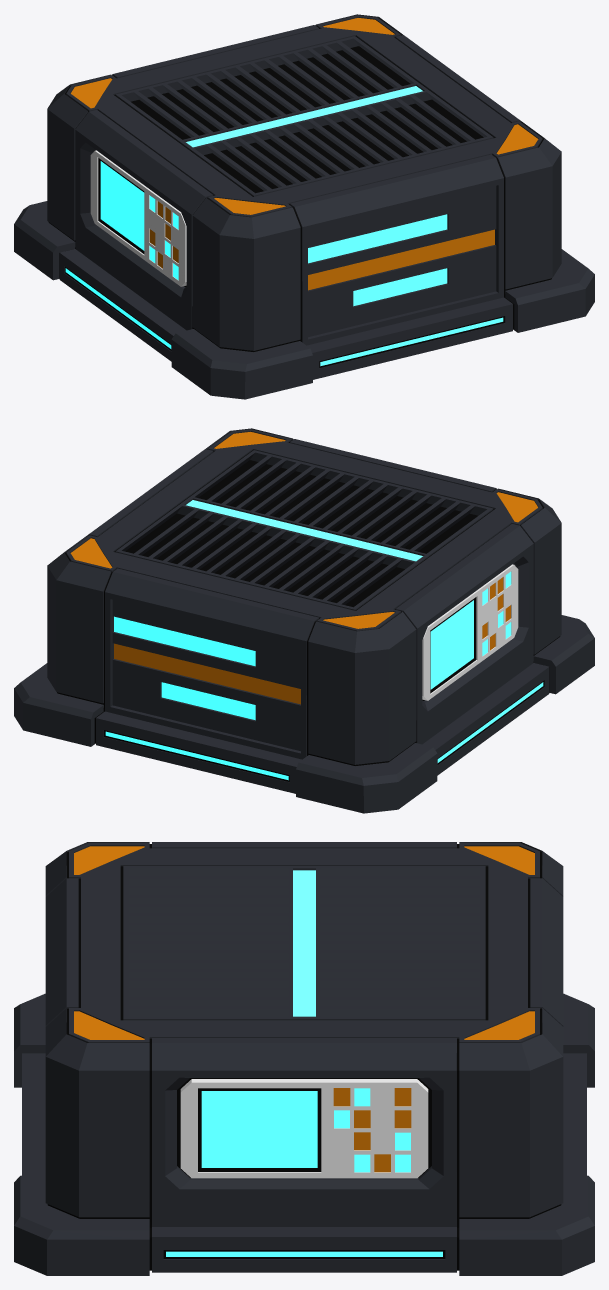
File: SM_Floor_Data_Node.fbx
3 renders of one model, top to bottom at view 1: azimuth 30°, elevation 25°; view 2: azimuth 150°, elevation 25°; view 3: azimuth 270°, elevation 25°, orthographic. The views are drawn at different scales.
Parts seen in each view (by area): view 1: SM_Floor_Data_Node; view 2: SM_Floor_Data_Node; view 3: SM_Floor_Data_Node.
Boxes of the visible parts, x1=… form: SM_Floor_Data_Node: x1=14, y1=14, x2=594, y2=399; SM_Floor_Data_Node: x1=14, y1=428, x2=594, y2=813; SM_Floor_Data_Node: x1=14, y1=842, x2=594, y2=1275.
Bounding box in the file's own units: 50 × 20 × 50.
